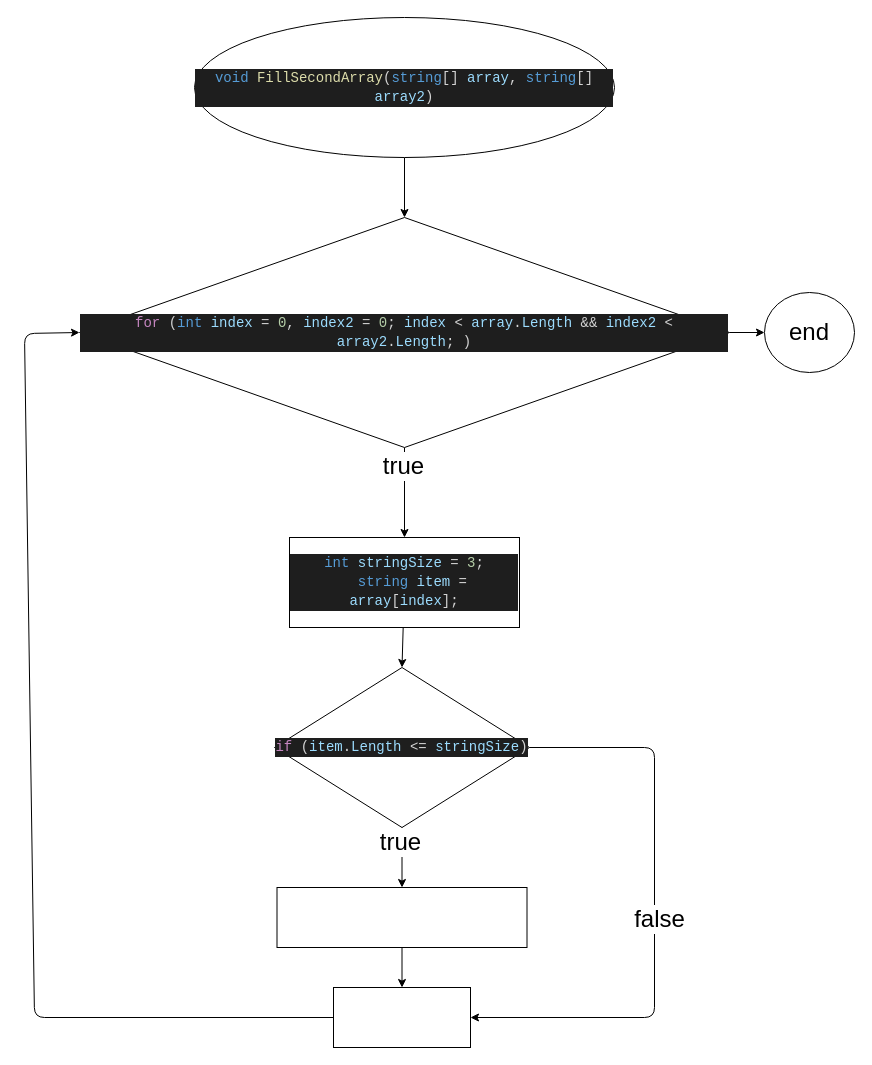
Some shapes in this 872 by 1065 pixel diagram are drawn without their labels. The box of each missing label's shape, as (x1, y1, x2, y2) in pixels:
array2 [ index2 ] = array [ index ]; index2 ++;: (276, 886, 527, 948)
index ++: (332, 986, 470, 1048)
